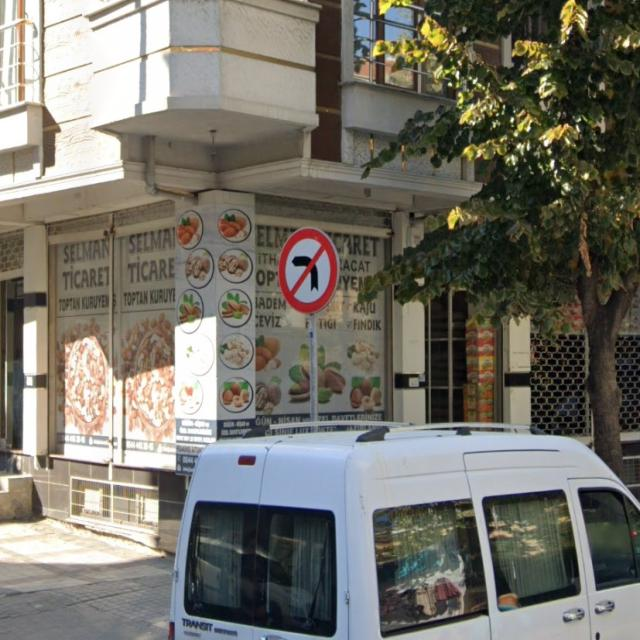soladonulmez: (278, 228, 338, 316)
